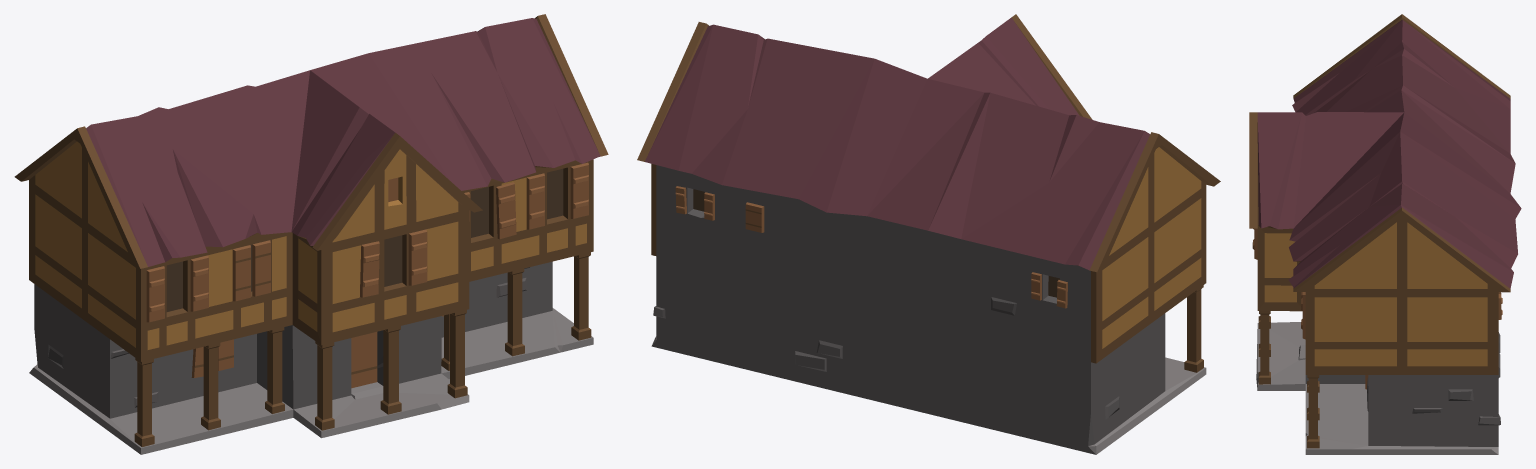
Rendered from pirates-house-pirate-big.glb.
3 renders of one model, left to right at view 1: azimuth 30°, elevation 25°; view 2: azimuth 150°, elevation 25°; view 3: azimuth 270°, elevation 25°, orthographic. The views are drawn at different scales.
Visible parts, largest first — view 1: house-pirate-big; view 2: house-pirate-big; view 3: house-pirate-big.
Part boxes in pixels (x1=…): house-pirate-big: x1=14, y1=14, x2=608, y2=454; house-pirate-big: x1=637, y1=14, x2=1220, y2=454; house-pirate-big: x1=1249, y1=14, x2=1521, y2=454.
Bounding box in the file's own units: 14.48 × 8.65 × 8.47.
